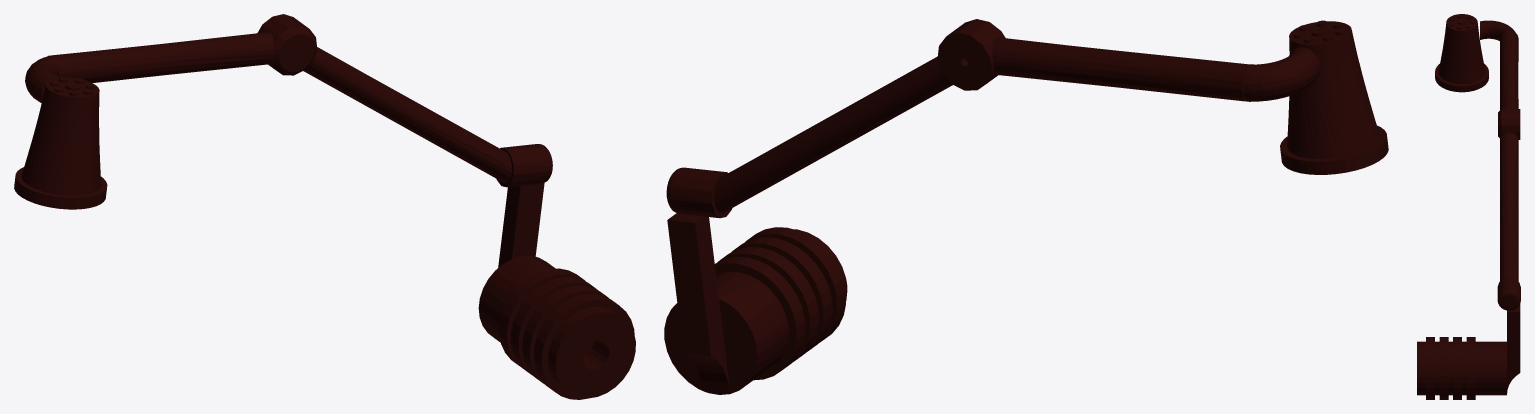
File: Mars6Mars_Rover__Curiosity_1_0__-_29_Wheel_Connector_2-2_00.dae
3 views of the same model, side by side, from view 1: azimuth 30°, elevation 25°; view 2: azimuth 150°, elevation 25°; view 3: azimuth 270°, elevation 25° (orthographic). The views are drawn at different scales.
Parts seen in each view (by area): view 1: tmp_export_Mars6Mars_Rover__Curiosity_1_0__-_29_Wheel_Connec; view 2: tmp_export_Mars6Mars_Rover__Curiosity_1_0__-_29_Wheel_Connec; view 3: tmp_export_Mars6Mars_Rover__Curiosity_1_0__-_29_Wheel_Connec.
Boxes of the visible parts, <box> form: tmp_export_Mars6Mars_Rover__Curiosity_1_0__-_29_Wheel_Connec: <box>14,14,635,399</box>; tmp_export_Mars6Mars_Rover__Curiosity_1_0__-_29_Wheel_Connec: <box>664,19,1388,394</box>; tmp_export_Mars6Mars_Rover__Curiosity_1_0__-_29_Wheel_Connec: <box>1417,14,1520,399</box>.
Bounding box in the file's own units: 0.3063 × 0.081 × 0.2063.
